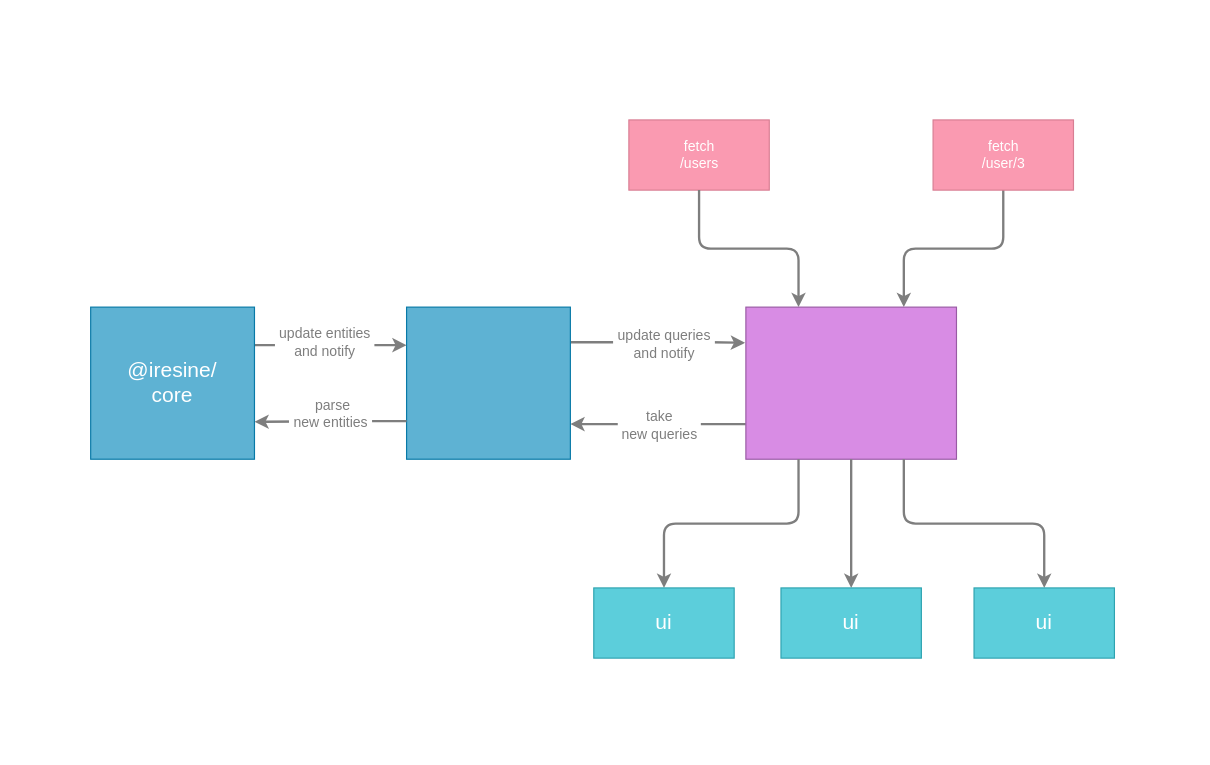
The diagram is 1210 pixels wide and 765 high, and some of its shapes have lost their labels. The shapes that lost their labels are listed below. From the top down, each one's centre as x and y in pixels, then its label:
the point at 487,382: @iresine/ react-query
the point at 850,382: react-query
